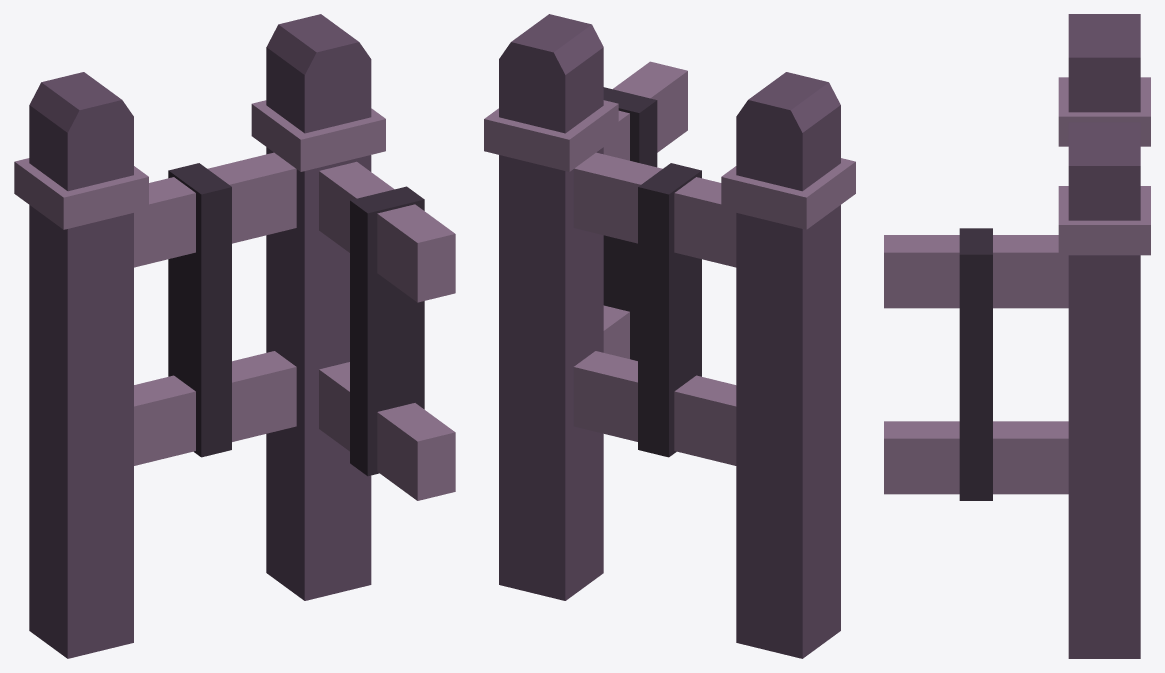
The model's file is TW_WOOD_CORNER_R90_B_LOD0.glb.
The picture shows the model from 3 angles, left to right: view 1: azimuth 30°, elevation 25°; view 2: azimuth 150°, elevation 25°; view 3: azimuth 270°, elevation 25°; orthographic projection. The views are drawn at different scales.
Visible parts, largest first — view 1: TW_WOOD_CORNER_R90_B_LOD0; view 2: TW_WOOD_CORNER_R90_B_LOD0; view 3: TW_WOOD_CORNER_R90_B_LOD0.
Boxes of the visible parts, x1,y1,x2,y2 form: TW_WOOD_CORNER_R90_B_LOD0: (14,14,455,658); TW_WOOD_CORNER_R90_B_LOD0: (484,14,855,658); TW_WOOD_CORNER_R90_B_LOD0: (884,14,1150,658).
Bounding box in the file's own units: 0.68 × 1.1 × 0.52.
Materials: 1 (1 with a texture image).
